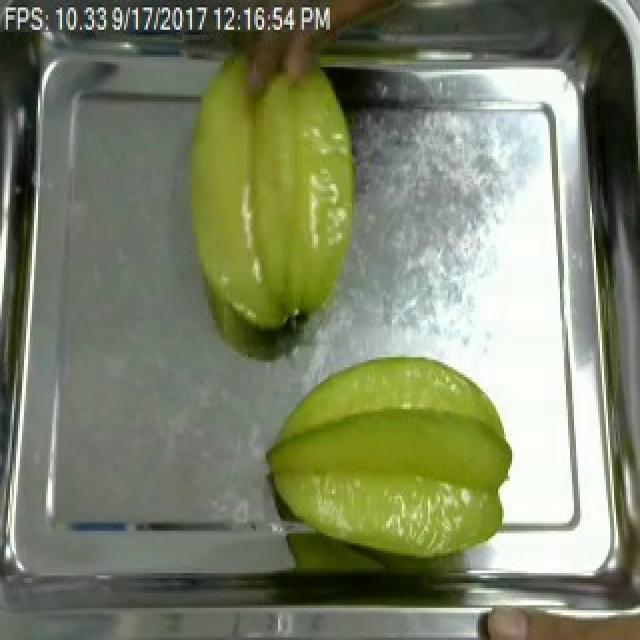fruit: (168, 39, 366, 344), (254, 350, 522, 568)
